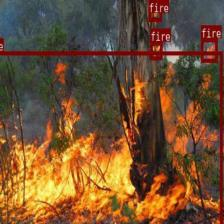fire: (0, 50, 222, 224), (201, 38, 217, 62), (147, 0, 160, 20), (150, 41, 162, 59)
